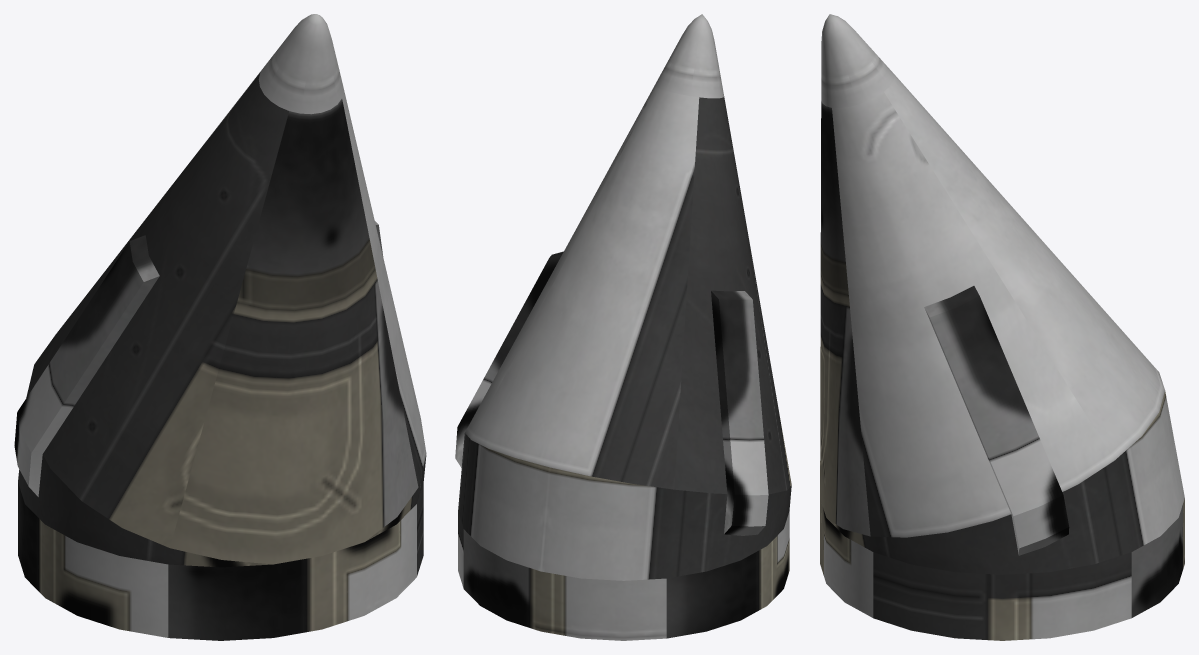
Rendered from hydra_lv_nose_fuel_tank_s2_2.obj.
3 views of the same model, side by side, from view 1: azimuth 30°, elevation 25°; view 2: azimuth 150°, elevation 25°; view 3: azimuth 270°, elevation 25° (orthographic). The views are drawn at different scales.
Visible parts, largest first — view 1: 2; view 2: 2; view 3: 2.
Part boxes in pixels (x1,y1,x2,y2): 2: [14, 14, 426, 640]; 2: [455, 14, 791, 640]; 2: [820, 14, 1184, 640].
Size of the model in its own units: 2.61 by 4.16 by 2.5.
